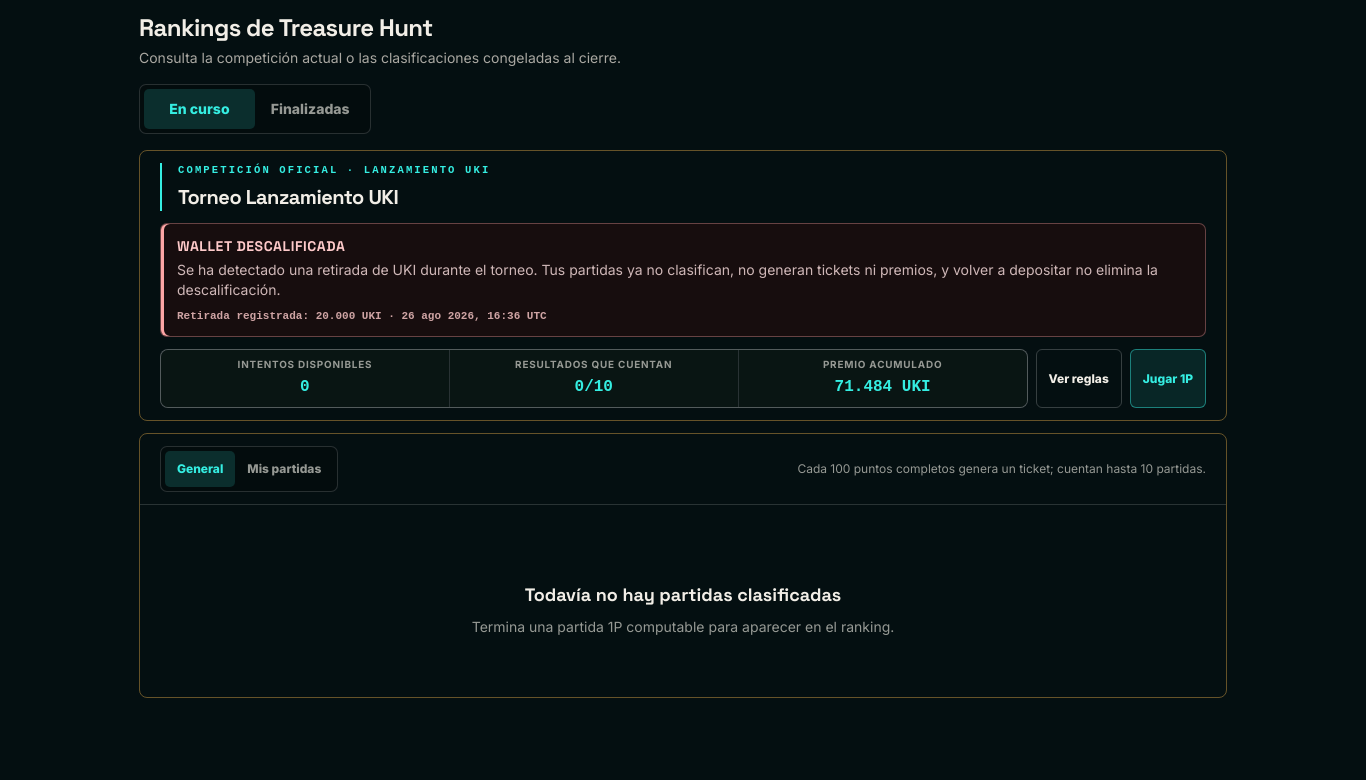
Test: vistas UX de Treasure Hunt › explica la descalificación en rankings y no presenta la partida como computable
This screenshot has width=1366, height=780.
Expected: the message shows "Wallet descalificada", [177, 237, 345, 255]
Expected: the message shows "20.000 UKI", [316, 310, 547, 322]
Click the button "Mis partidas". click: (284, 469)
box: [235, 451, 333, 487]
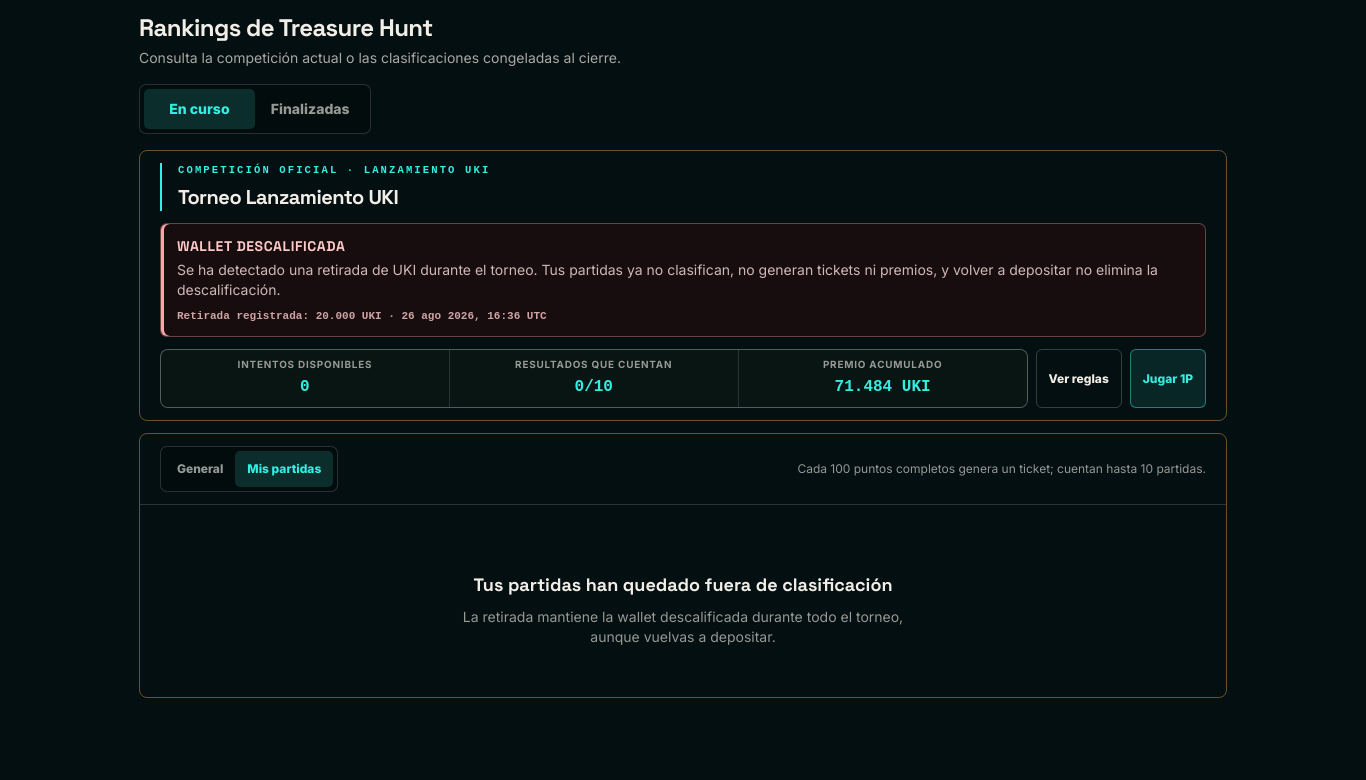
Expected: the heading "Tus partidas han quedado fuera de clasificación" is shown, [474, 571, 892, 599]
